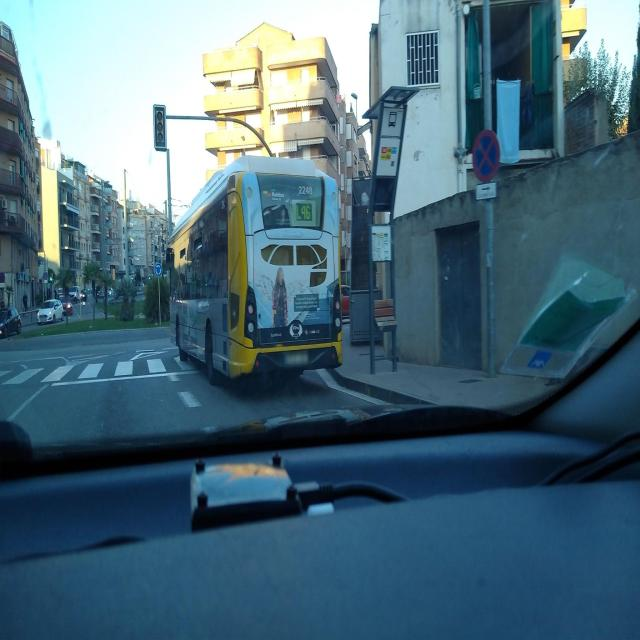forb_stopping: (43, 272, 48, 281)
forb_waiting: (472, 130, 500, 184)
